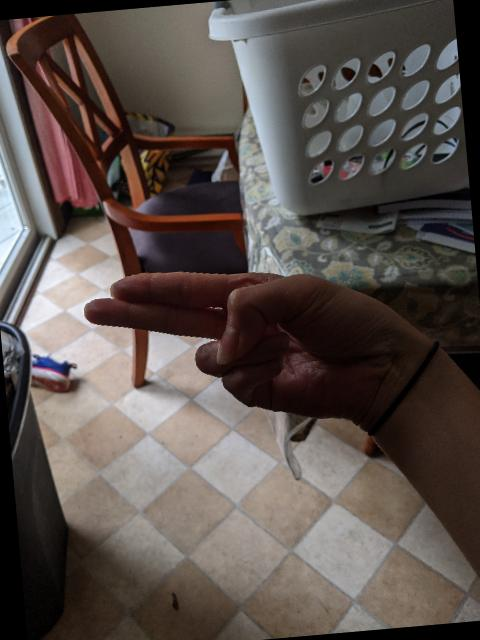H: (74, 242, 430, 448)
